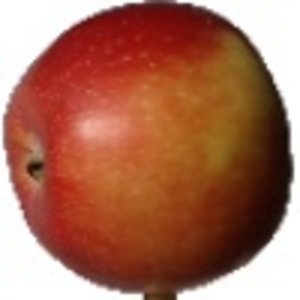maçã braeburn: (1, 1, 293, 292)
